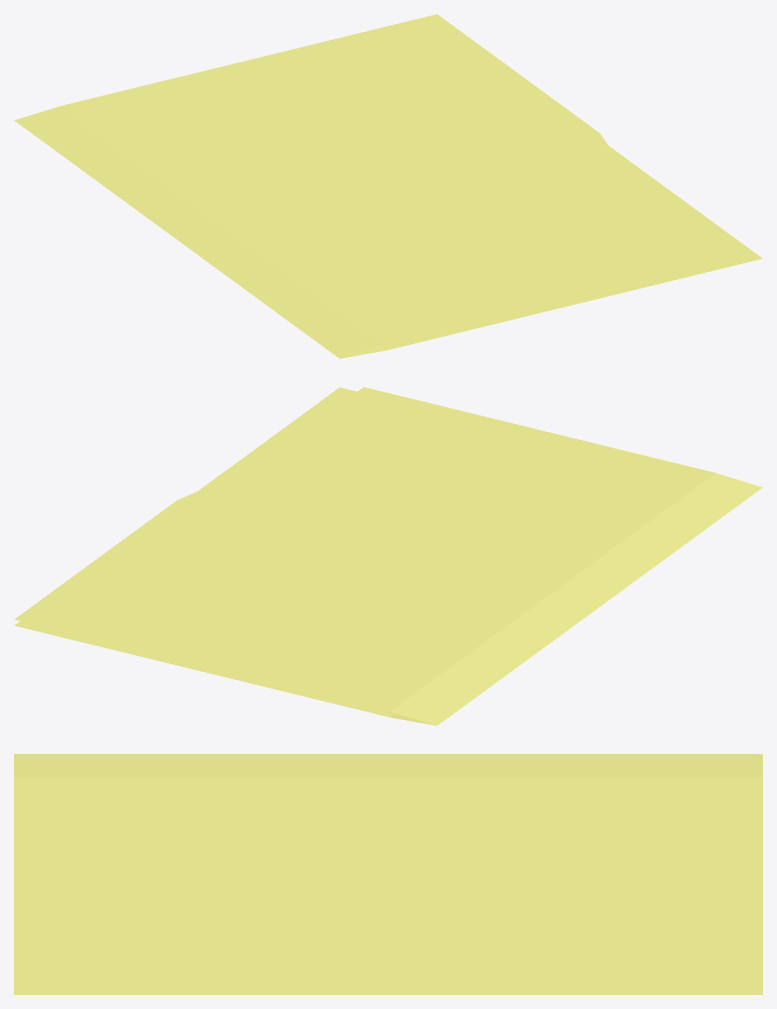
The model's file is Folder.fbx.
The picture shows the model from 3 angles, top to bottom: view 1: azimuth 30°, elevation 25°; view 2: azimuth 150°, elevation 25°; view 3: azimuth 270°, elevation 25°; orthographic projection. The views are drawn at different scales.
Visible parts, largest first — view 1: Folder; view 2: Folder; view 3: Folder.
Boxes of the visible parts, bbox=[...] form: Folder: bbox=[14, 14, 762, 358]; Folder: bbox=[14, 387, 762, 725]; Folder: bbox=[14, 754, 762, 994].
Bounding box in the file's own units: 22.86 × 0.3142 × 30.48.
